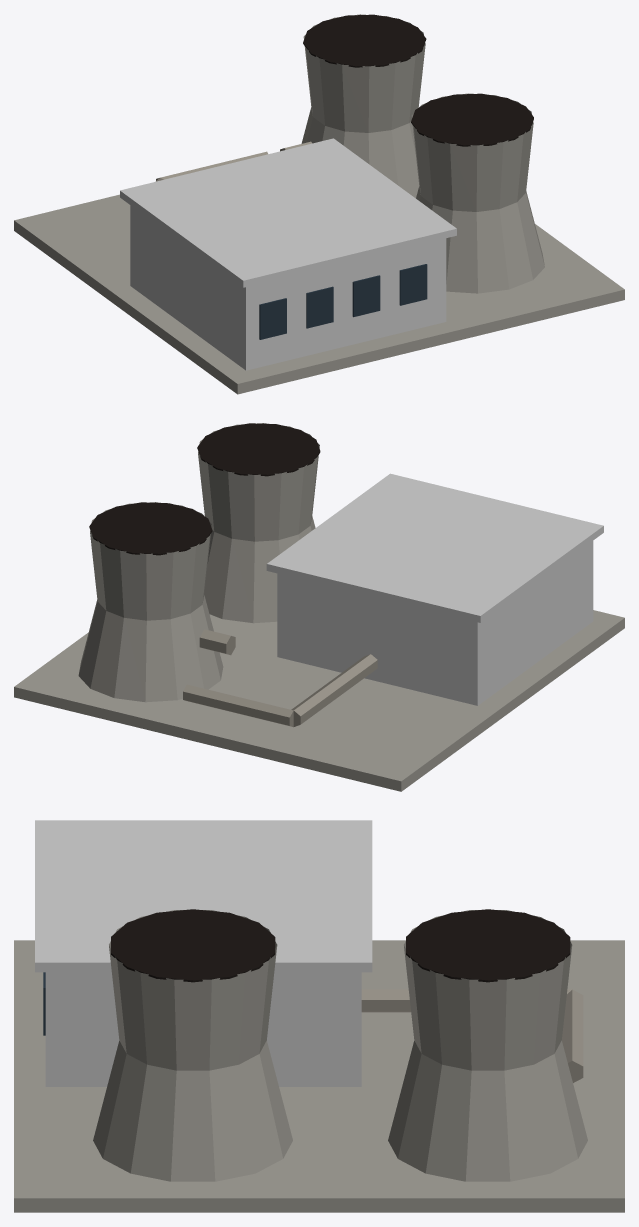
Rendered from geothermal.obj.
3 views of the same model, one above another, from view 1: azimuth 30°, elevation 25°; view 2: azimuth 150°, elevation 25°; view 3: azimuth 270°, elevation 25° (orthographic). The views are drawn at different scales.
Visible parts, largest first — view 1: geothermal; view 2: geothermal; view 3: geothermal.
Boxes of the visible parts, x1,y1,x2,y2 form: geothermal: (14,14,624,394); geothermal: (14,423,624,791); geothermal: (14,820,624,1212).
Size of the model in its own units: 5.8 by 2.2 by 5.8.
